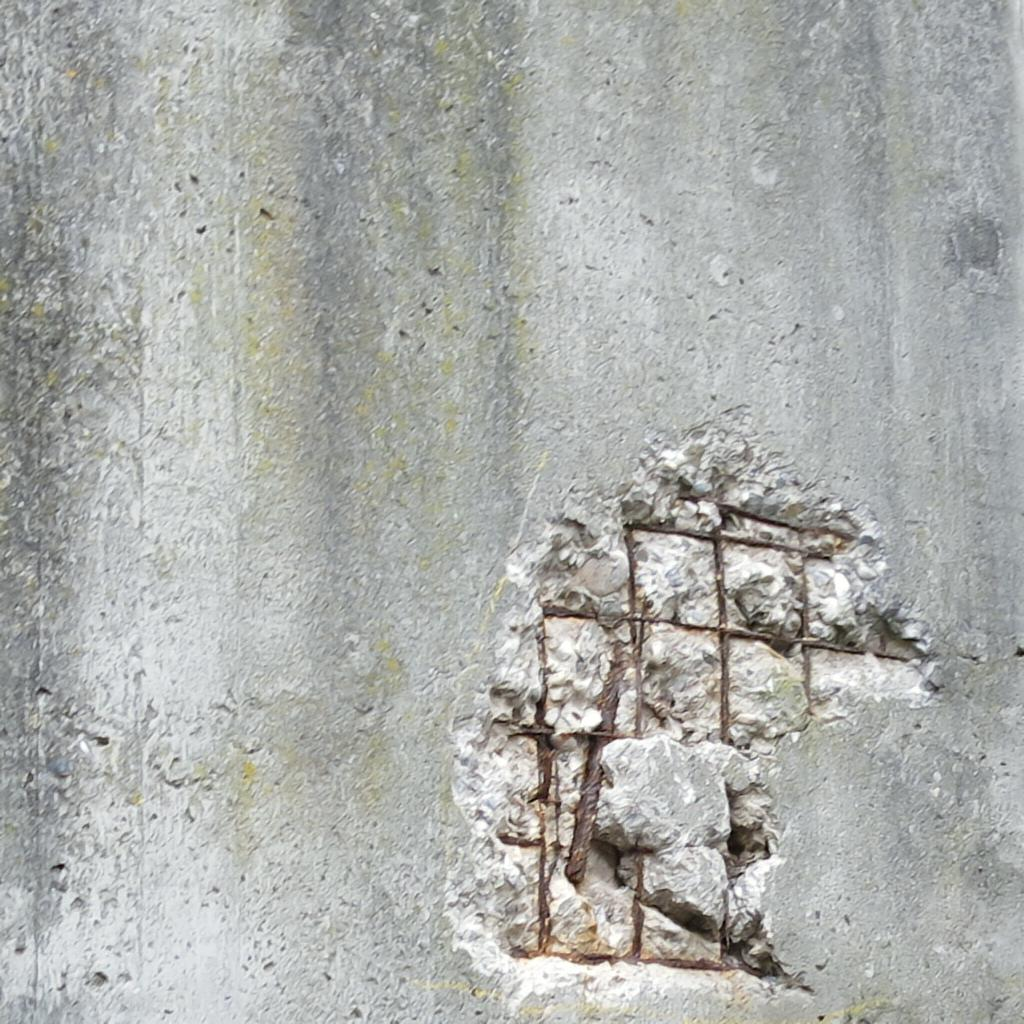exposed_rebar: (564, 640, 632, 883)
spalling: (450, 412, 932, 1015)
